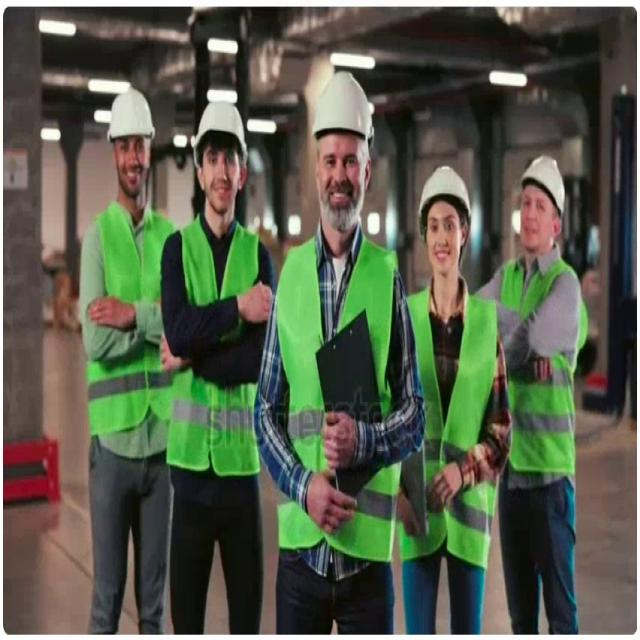not-gloved: (306, 471, 357, 534), (322, 409, 356, 472), (88, 294, 135, 330), (236, 280, 272, 324), (431, 459, 462, 509)
